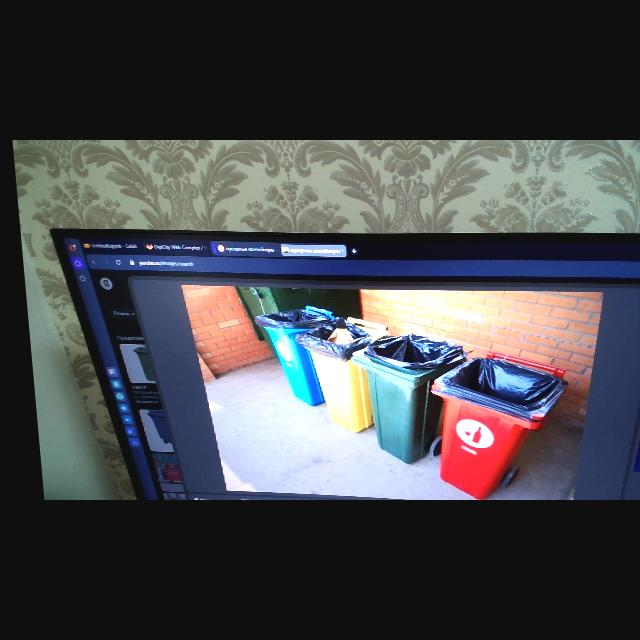Trash_Can_Empty: (421, 356, 568, 500), (344, 333, 465, 465), (246, 305, 337, 407)
Trash_Can_Full: (289, 317, 390, 433)
